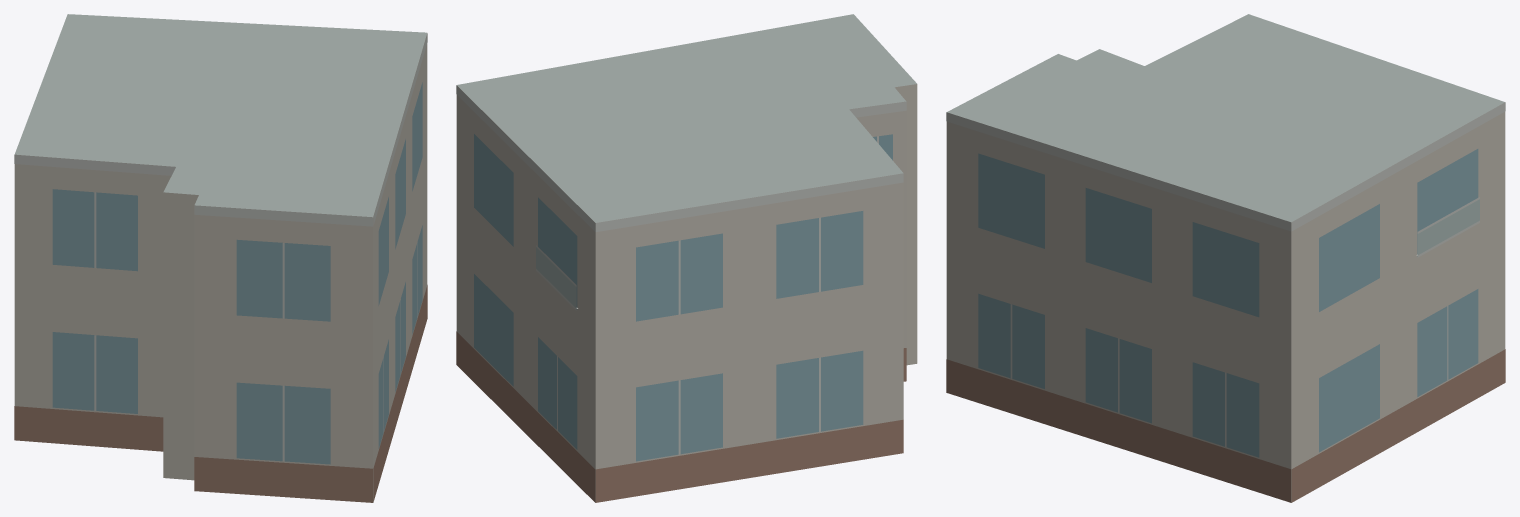
Rendered from survey-upis-32497064.glb.
3 views of the same model, side by side, from view 1: azimuth 30°, elevation 25°; view 2: azimuth 150°, elevation 25°; view 3: azimuth 270°, elevation 25° (orthographic). The views are drawn at different scales.
Visible parts, largest first — view 1: survey-upis-32497064.tmp; view 2: survey-upis-32497064.tmp; view 3: survey-upis-32497064.tmp.
Boxes of the visible parts, x1,y1,x2,y2 form: survey-upis-32497064.tmp: (14, 14, 427, 502); survey-upis-32497064.tmp: (456, 14, 917, 502); survey-upis-32497064.tmp: (946, 14, 1505, 502).
Bounding box in the file's own units: 11.79 × 7.4 × 13.37.
